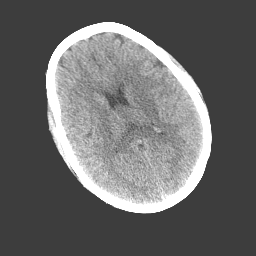ischemic: (130, 66, 202, 138)
